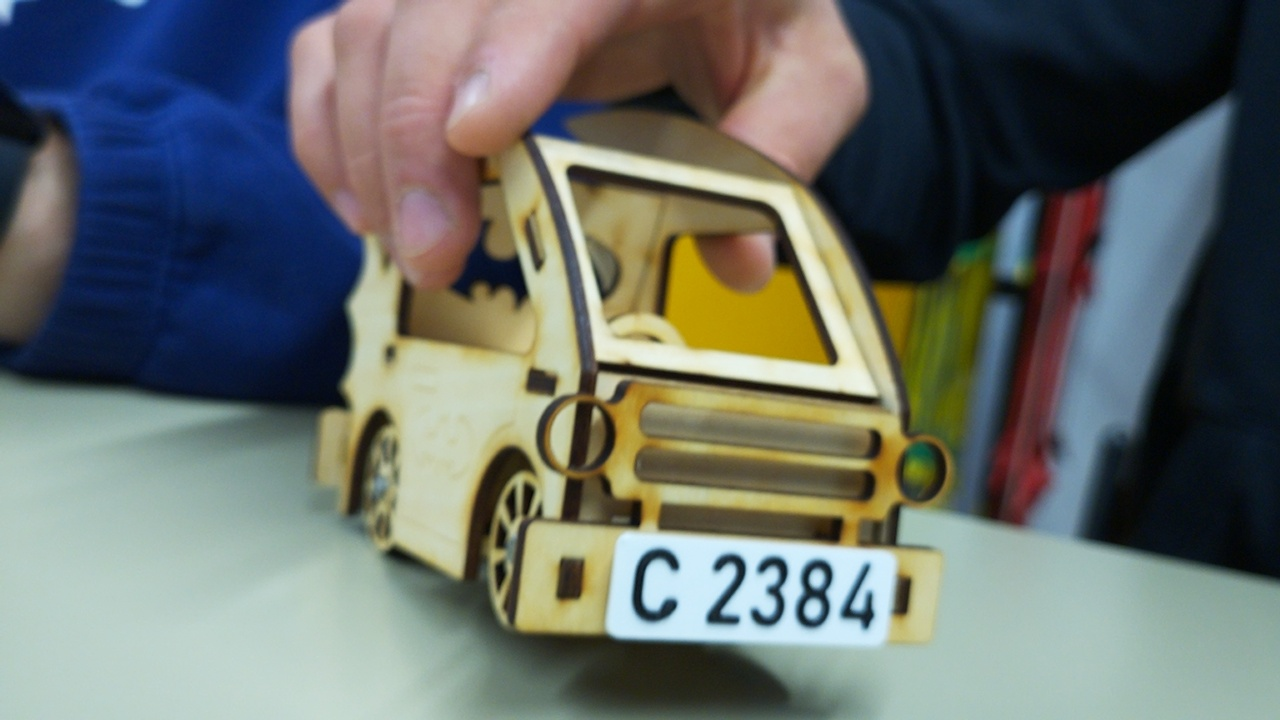license_plate: (603, 526, 901, 650)
